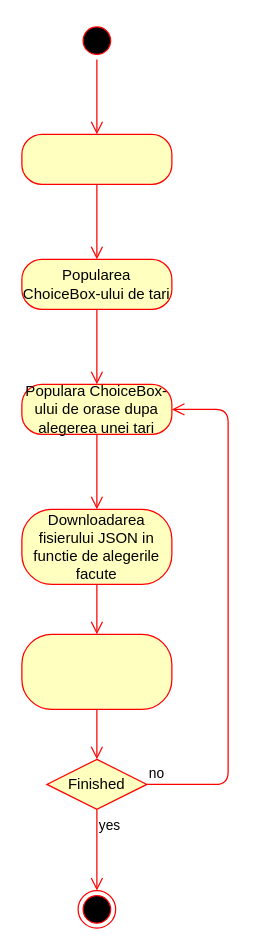
Some shapes in this 263 by 950 pixel diagram are drawn without their labels. Here are the shapes that lost their labels. From the top down, the centre of each, then its label:
At [96,158]: "Citirea Fisierului de input".
At [96,671]: "Extragerea si afisarea informatiilor din fisierul JSON".
